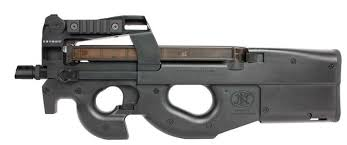gun: (9, 11, 342, 141)
